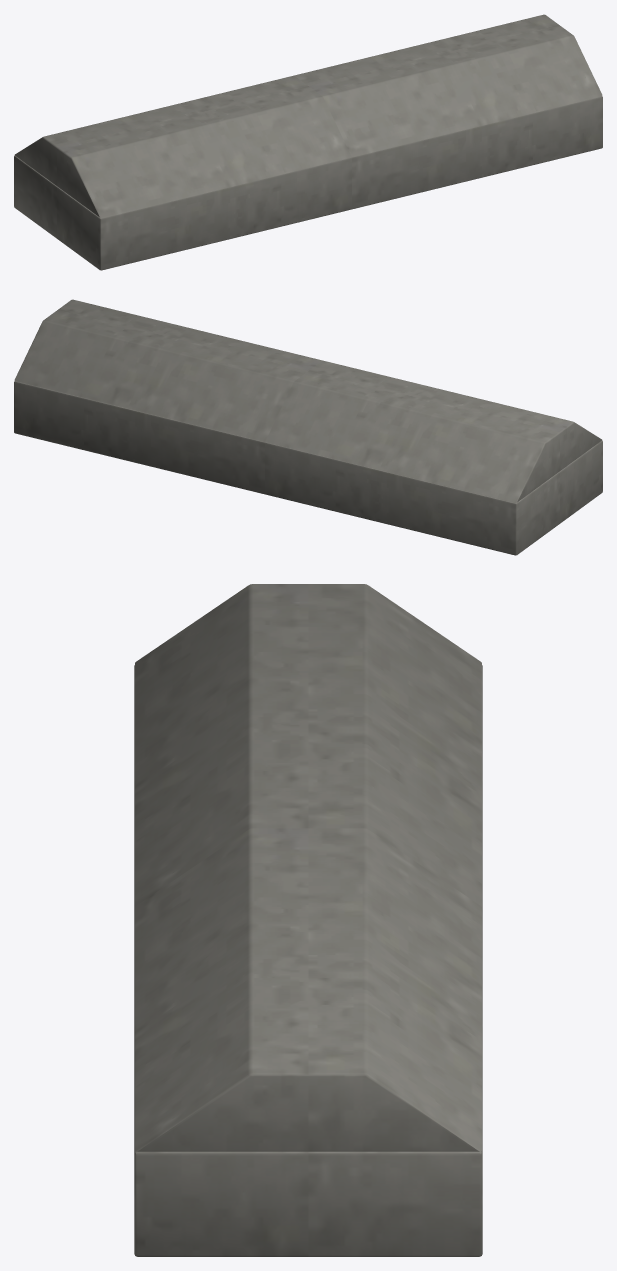
File: FUN-SAP-002_lod1.glb
3 renders of one model, top to bottom at view 1: azimuth 30°, elevation 25°; view 2: azimuth 150°, elevation 25°; view 3: azimuth 270°, elevation 25°, orthographic. The views are drawn at different scales.
Visible parts, largest first — view 1: FUN-SAP-002_tronco, FUN-SAP-002_base; view 2: FUN-SAP-002_tronco, FUN-SAP-002_base; view 3: FUN-SAP-002_tronco, FUN-SAP-002_base.
Boxes of the visible parts, x1=… form: FUN-SAP-002_tronco: x1=15, y1=14, x2=602, y2=218; FUN-SAP-002_base: x1=14, y1=96, x2=602, y2=270; FUN-SAP-002_tronco: x1=14, y1=299, x2=601, y2=503; FUN-SAP-002_base: x1=14, y1=381, x2=602, y2=555; FUN-SAP-002_tronco: x1=135, y1=584, x2=481, y2=1151; FUN-SAP-002_base: x1=134, y1=665, x2=482, y2=1256.
Bounding box in the file's own units: 2 × 0.35 × 0.6.
1 material, 1 textured.
